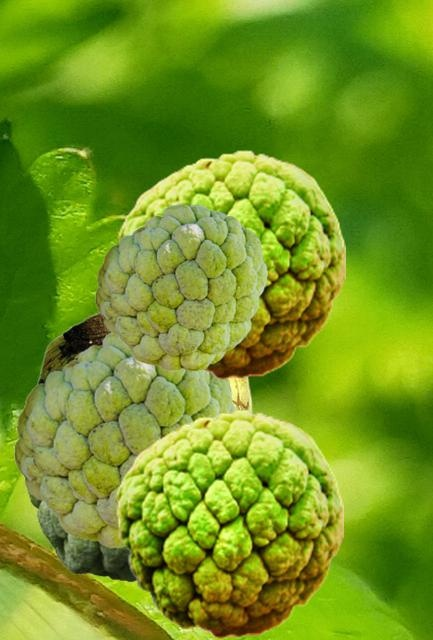atis: (117, 149, 344, 379), (115, 408, 342, 638), (14, 331, 237, 547), (95, 204, 266, 370), (37, 312, 251, 409), (25, 487, 134, 581)
